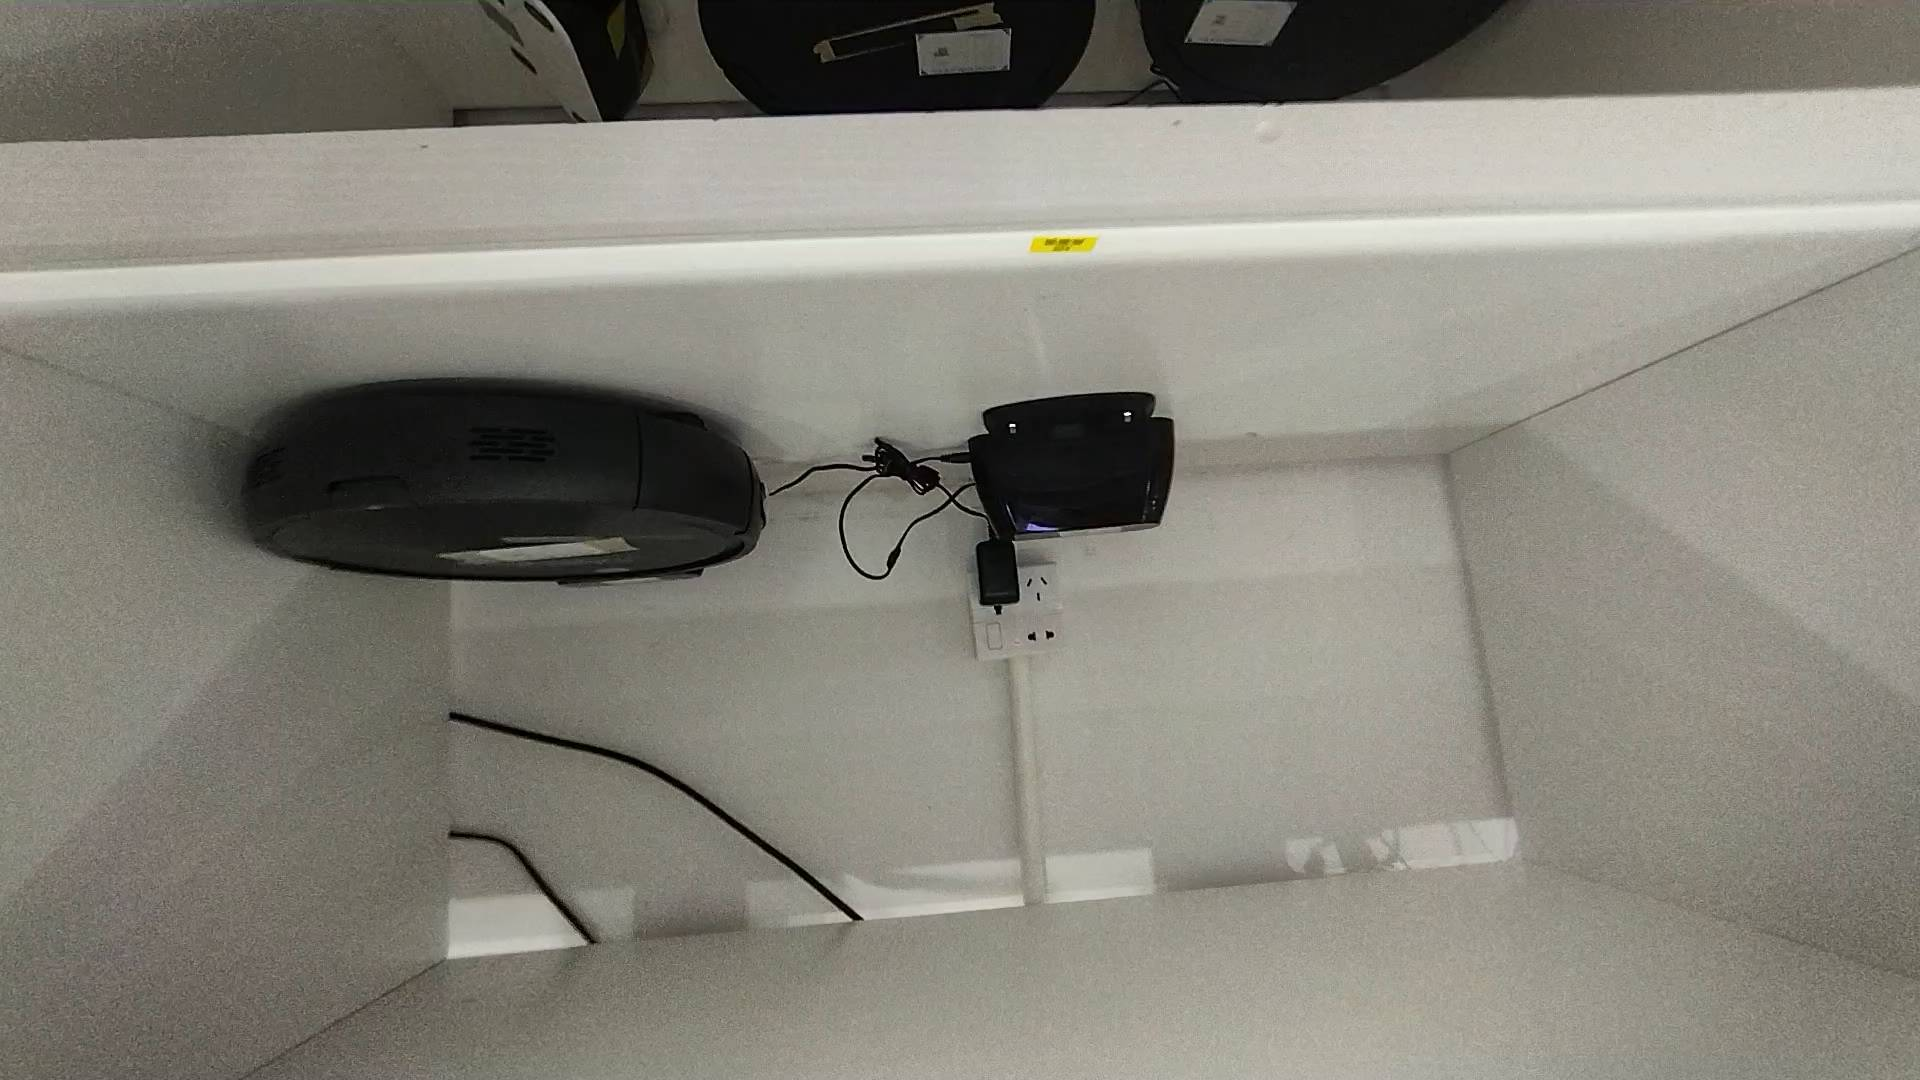recharge seat: (969, 392, 1178, 542), (473, 1, 653, 124)
